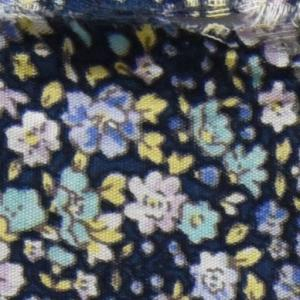Damage: (1, 1, 300, 84)
